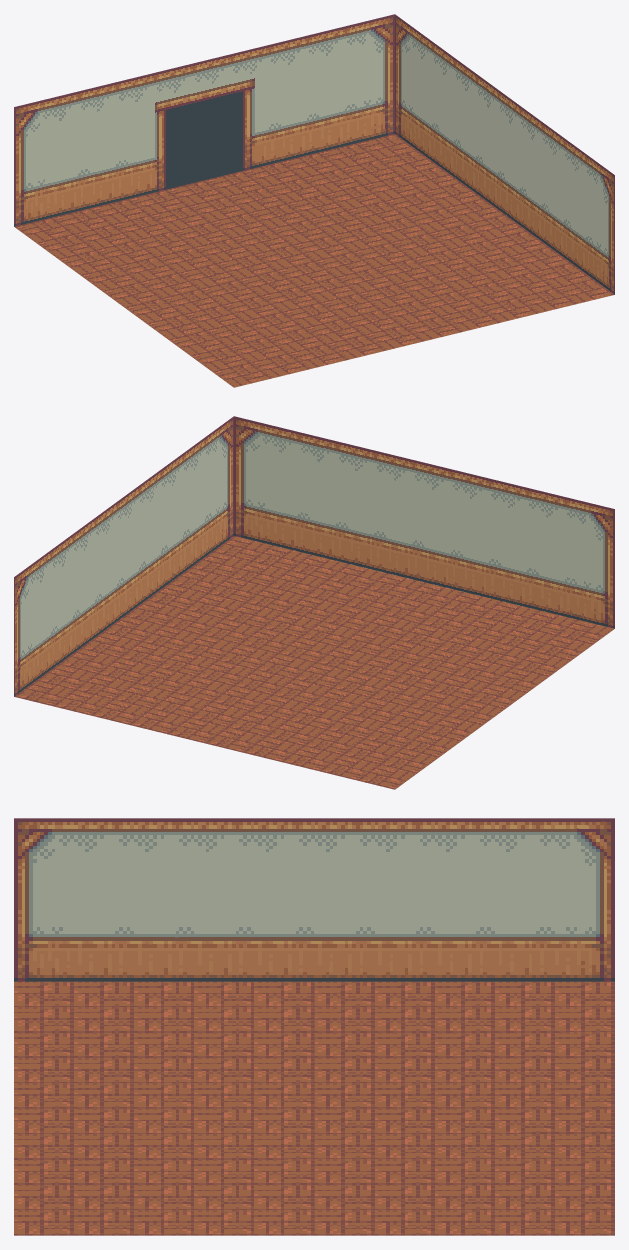
The model's file is Inn_Interior.gltf.
3 views of the same model, one above another, from view 1: azimuth 30°, elevation 25°; view 2: azimuth 150°, elevation 25°; view 3: azimuth 270°, elevation 25° (orthographic). The views are drawn at different scales.
Bounding box in the file's own units: 10 × 3 × 10.
Materials: 1 (1 with a texture image).
